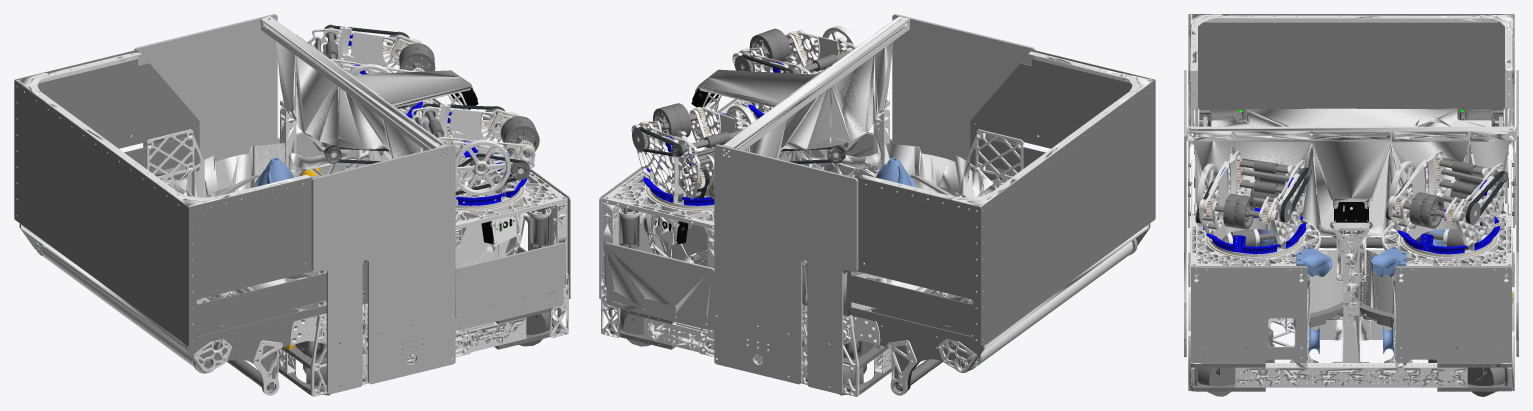
File: mirage-1706.glb
3 renders of one model, left to right at view 1: azimuth 30°, elevation 25°; view 2: azimuth 150°, elevation 25°; view 3: azimuth 270°, elevation 25°, orthographic. The views are drawn at different scales.
Parts seen in each view (by area): view 1: frame, intake, turret-right, turret-left, intake-roller-0, flywheel-right, wheels-right, wheels-left, rotor-left; view 2: frame, intake, turret-left, turret-right, intake-roller-0, wheels-left, wheels-right, rotor-right; view 3: frame, intake, turret-left, turret-right, wheels-left, wheels-right, flywheel-right, flywheel-left.
Boxes of the visible parts, x1,y1,x2,y2 form: frame: [134, 14, 570, 396]; intake: [14, 50, 367, 395]; turret-right: [411, 103, 535, 219]; turret-left: [307, 24, 424, 118]; intake-roller-0: [41, 246, 194, 367]; flywheel-right: [455, 139, 510, 195]; wheels-right: [500, 116, 539, 154]; wheels-left: [399, 43, 435, 71]; rotor-left: [253, 157, 293, 195]; frame: [599, 14, 1035, 396]; intake: [802, 50, 1155, 395]; turret-left: [631, 106, 750, 219]; turret-right: [732, 30, 856, 140]; intake-roller-0: [980, 241, 1132, 363]; wheels-left: [653, 103, 691, 139]; wheels-right: [749, 28, 790, 61]; rotor-right: [875, 157, 916, 195]; frame: [1184, 70, 1518, 396]; intake: [1188, 14, 1514, 248]; turret-left: [1385, 150, 1507, 263]; turret-right: [1195, 151, 1311, 263]; wheels-left: [1409, 192, 1444, 228]; wheels-right: [1223, 194, 1254, 229]; flywheel-right: [1196, 163, 1218, 207]; flywheel-left: [1389, 160, 1417, 197].
Bounding box in the file's own units: 0.9477 × 0.5509 × 0.7684.
